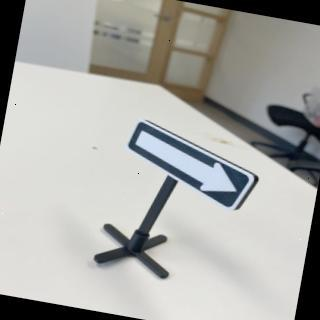sign_oneway_right: (119, 118, 268, 216)
